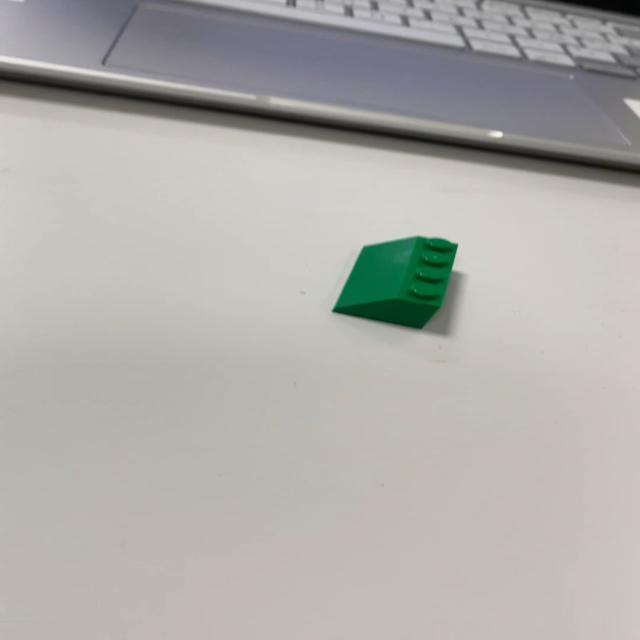P4x2x1: (330, 234, 459, 330)
